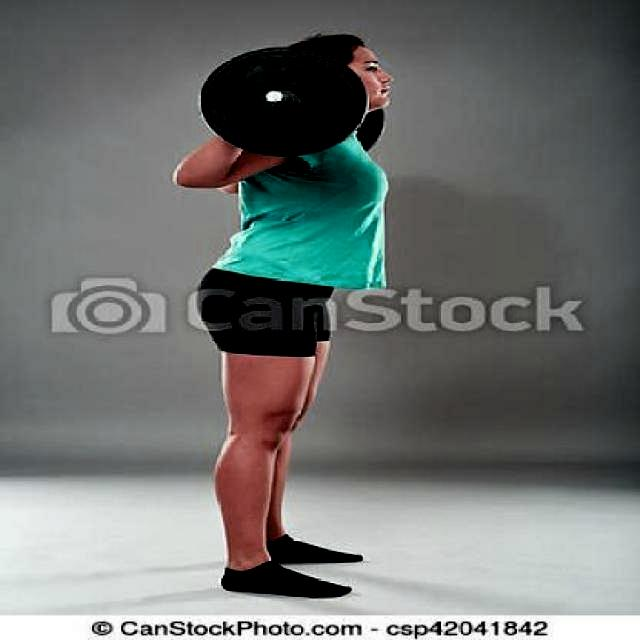barbell: (196, 40, 377, 168)
